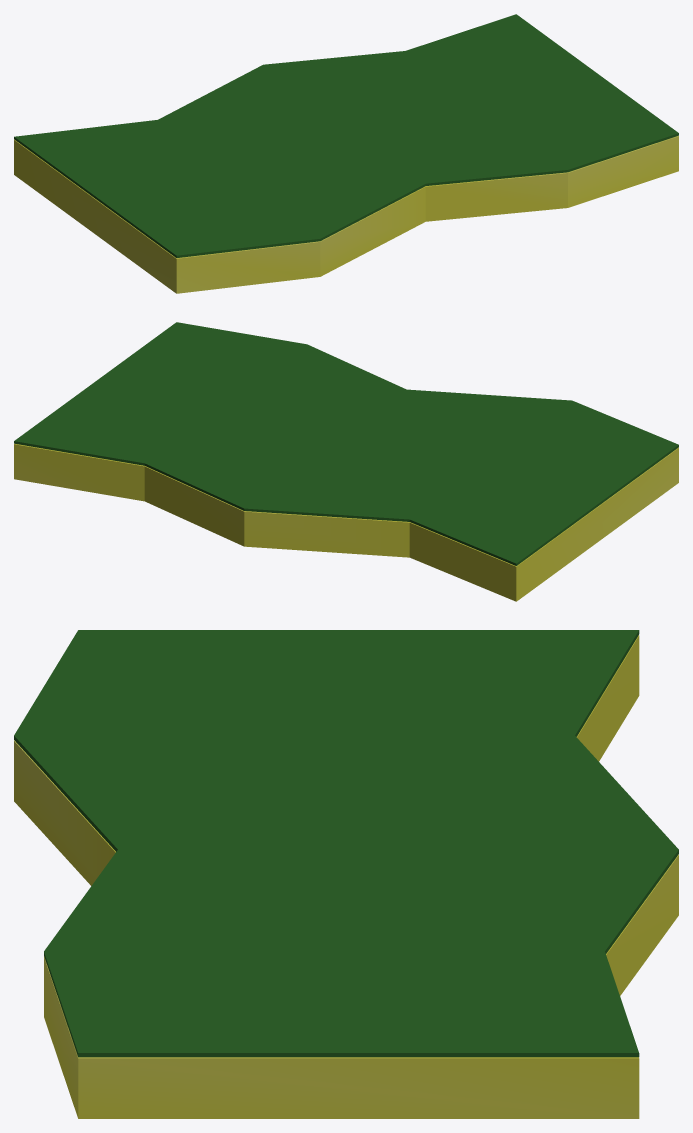
File: sponge.gltf
3 views of the same model, one above another, from view 1: azimuth 30°, elevation 25°; view 2: azimuth 150°, elevation 25°; view 3: azimuth 270°, elevation 25° (orthographic). The views are drawn at different scales.
Parts seen in each view (by area): view 1: Cube; view 2: Cube; view 3: Cube.
Boxes of the visible parts, bbox=[...] form: Cube: bbox=[14, 14, 678, 293]; Cube: bbox=[14, 322, 678, 601]; Cube: bbox=[14, 630, 678, 1118].
Bounding box in the file's own units: 0.2159 × 0.0156 × 0.1434.
